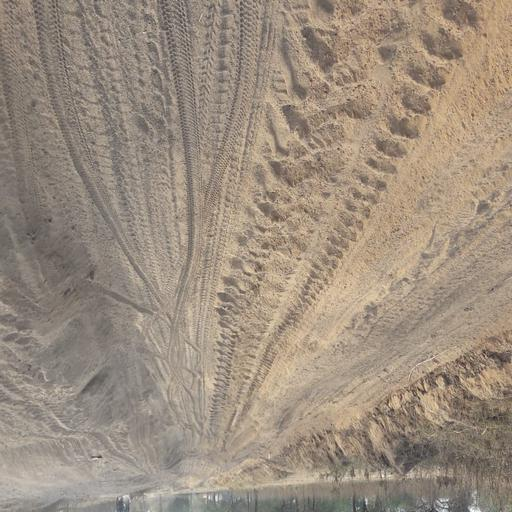vehicle_track: (0, 0, 512, 456)
